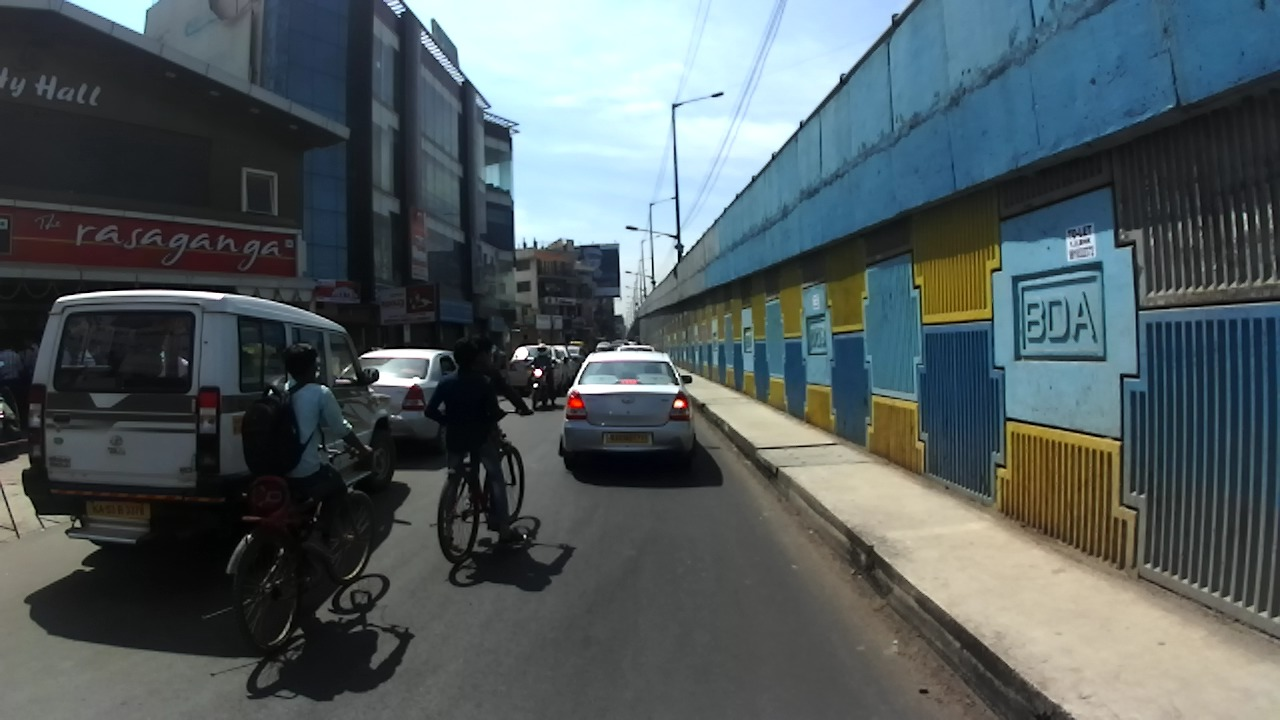autorickshaw: (569, 340, 588, 357)
bicycle: (203, 444, 377, 656), (438, 411, 534, 565)
car: (16, 285, 397, 573), (557, 351, 696, 473), (333, 349, 458, 453), (505, 345, 568, 397), (547, 345, 579, 392), (566, 347, 585, 365), (616, 345, 655, 353), (595, 341, 611, 352)
motorcycle: (523, 358, 557, 410), (1, 355, 17, 443)
person: (17, 333, 51, 434), (1, 337, 21, 431), (520, 333, 530, 346)
rider: (242, 342, 374, 561), (424, 337, 525, 543), (470, 336, 529, 450), (527, 344, 556, 408)
vehicle fallback: (611, 340, 623, 351), (624, 340, 637, 345)
